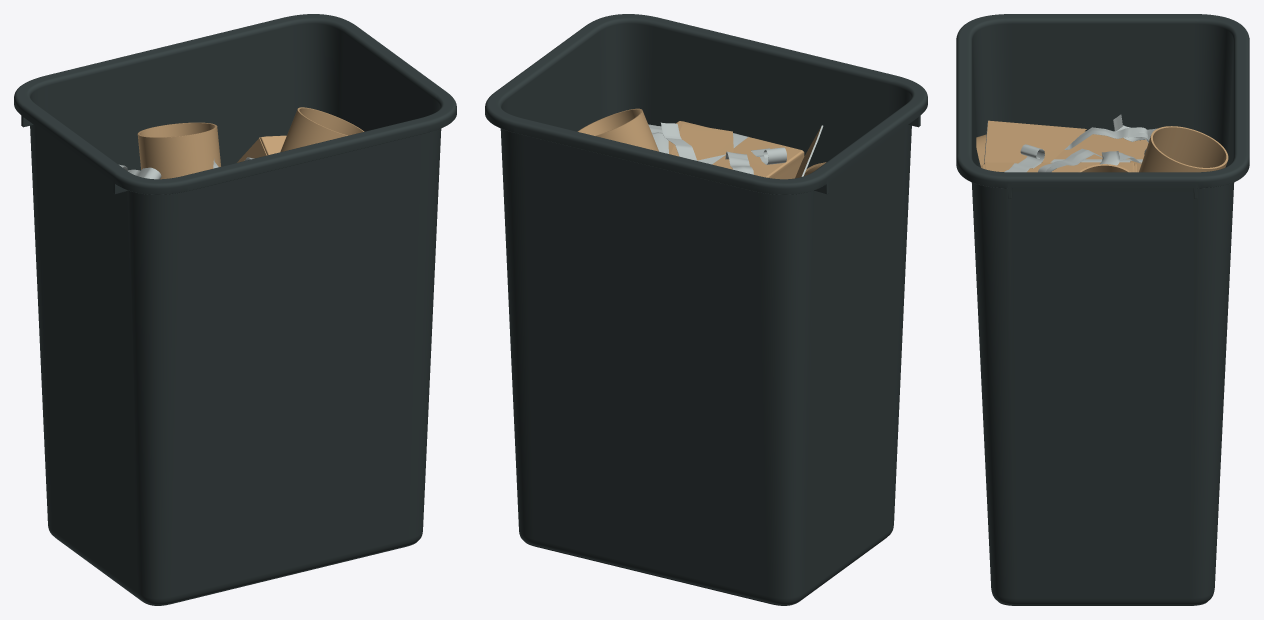
The model's file is trash_a02.glb.
3 renders of one model, left to right at view 1: azimuth 30°, elevation 25°; view 2: azimuth 150°, elevation 25°; view 3: azimuth 270°, elevation 25°, orthographic.
Size of the model in its own units: 0.4 by 0.5 by 0.3.
